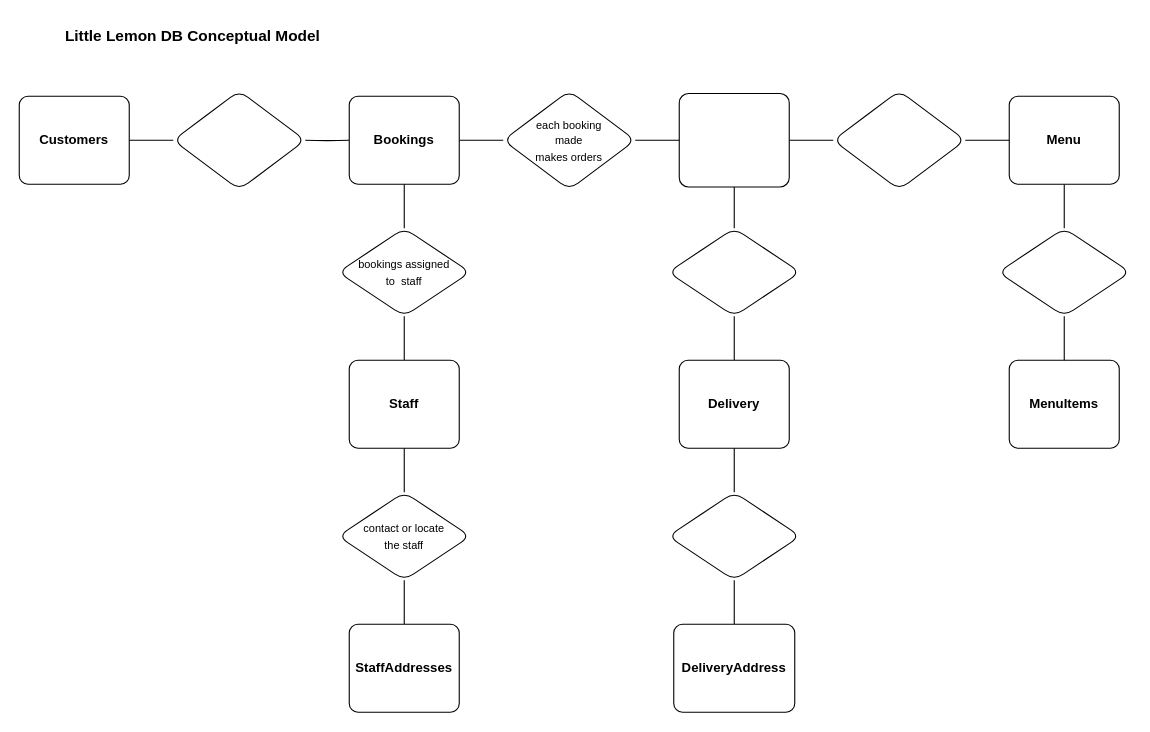
Image size: 1150x732. Some labels were removed from this diagram. Here are the shapes that lost their labels. From the top down, the box of each, then its label:
(172, 90, 305, 190): customers make bookings
(678, 92, 789, 187): Orders
(832, 90, 965, 190): orders select from the menu
(667, 227, 800, 316): delivered
(997, 227, 1130, 316): menu contains menu items
(667, 491, 800, 580): location to be delivered
